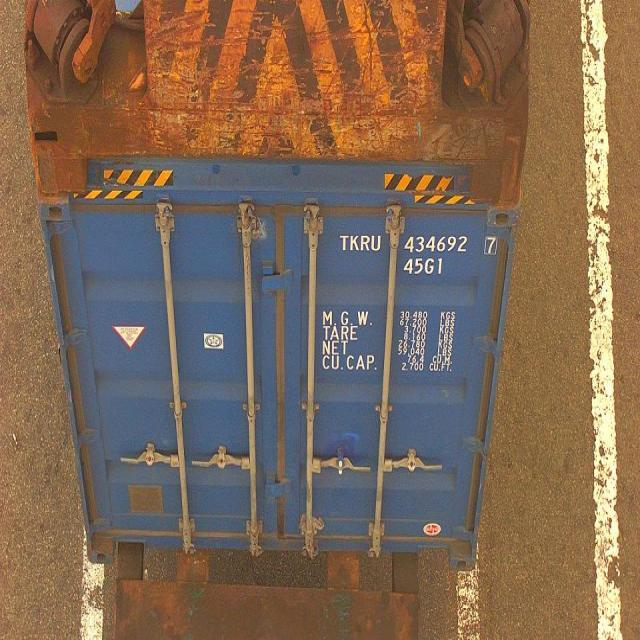ISO: (404, 253, 447, 279)
container_number: (338, 229, 504, 256)
